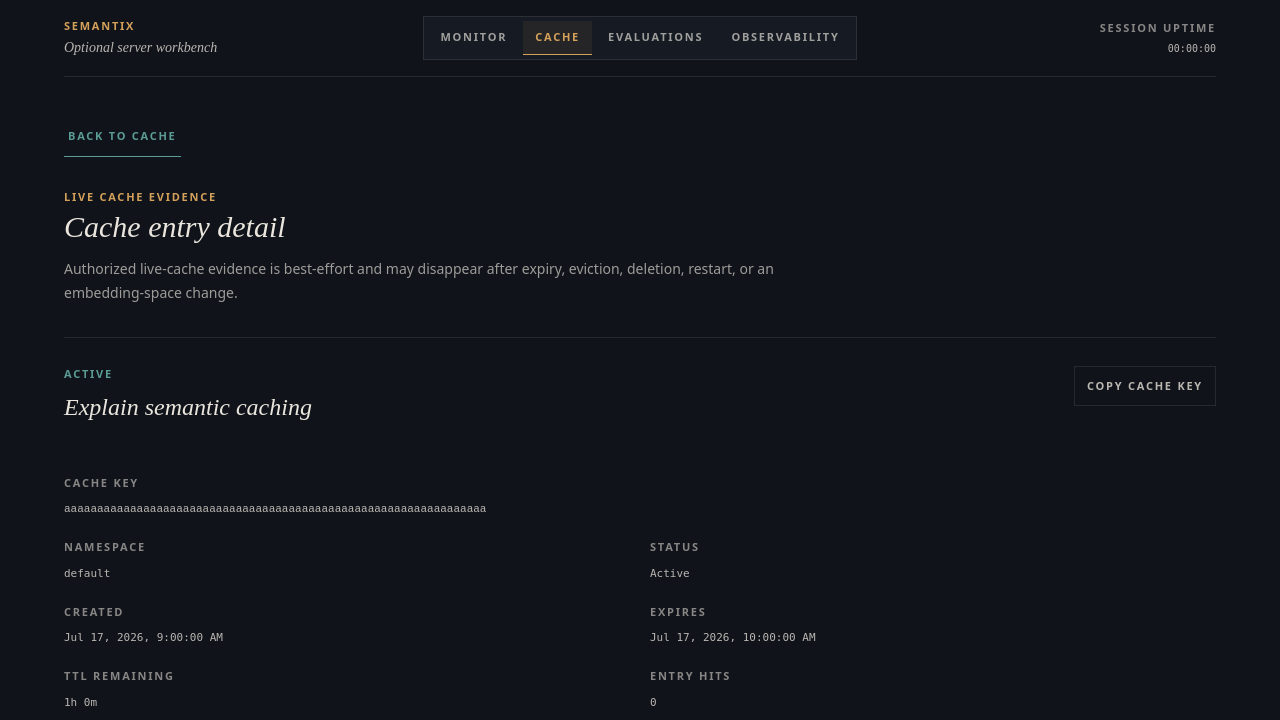
Test: application routing › copies the cache key with accessible feedback
The image size is (1280, 720).
Expected: the heading "Explain semantic caching" is shown, [64,390,312,422]
Click the button "Copy cache key": click(1145, 386) [1074,366,1216,406]
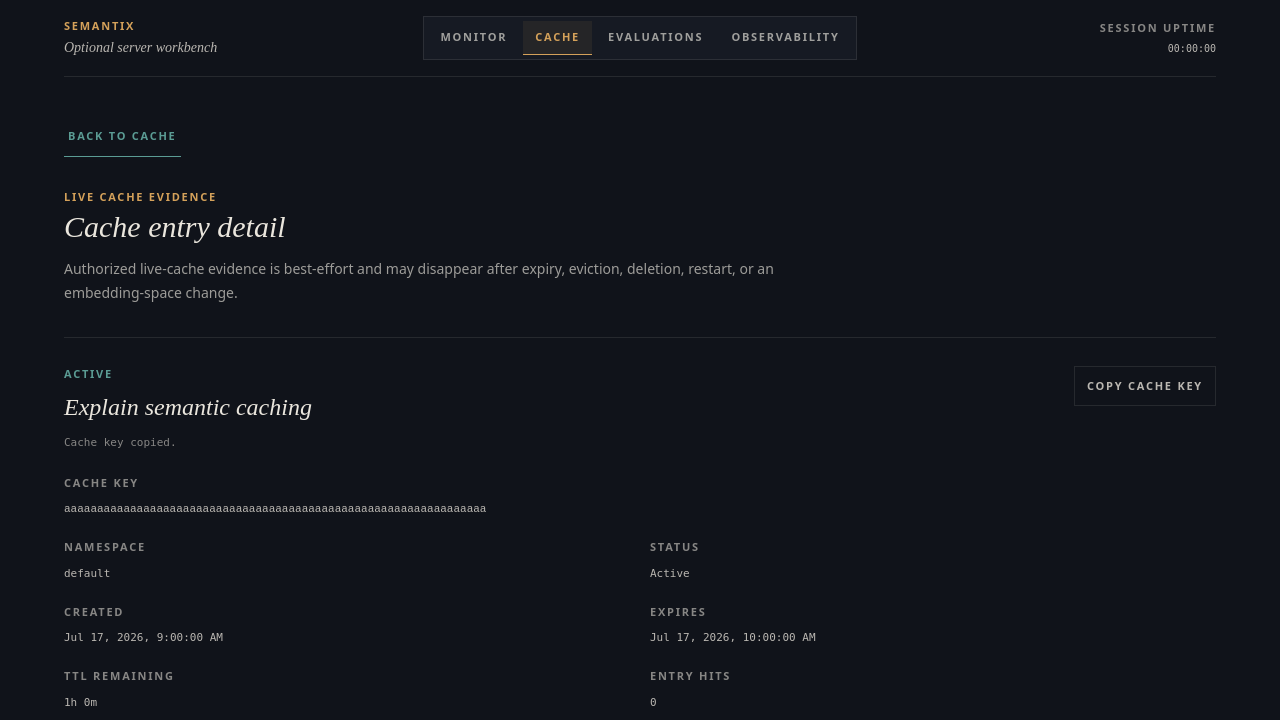
Result: the text "Cache key copied." is shown at [64,436,177,448]
